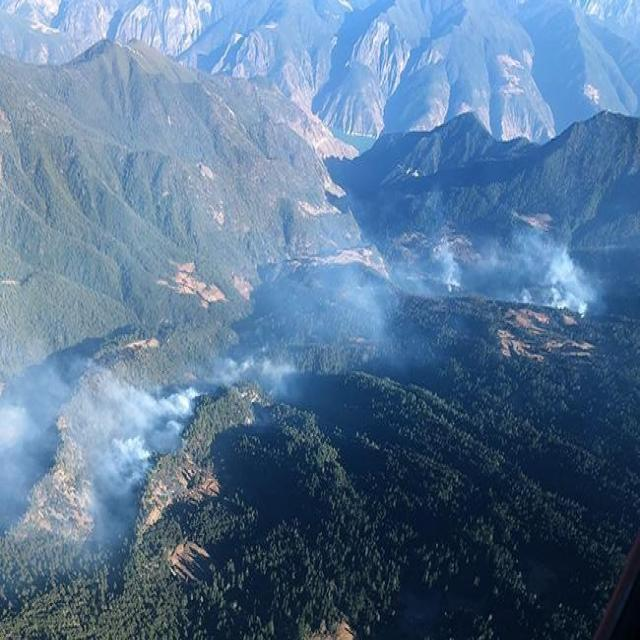Smoke: (0, 228, 608, 552)
